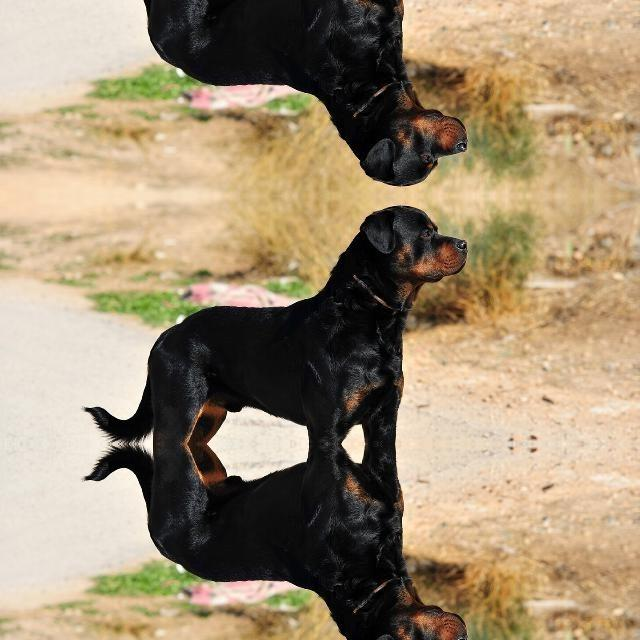dog: (79, 200, 475, 444), (79, 444, 475, 640), (79, 0, 475, 190)
